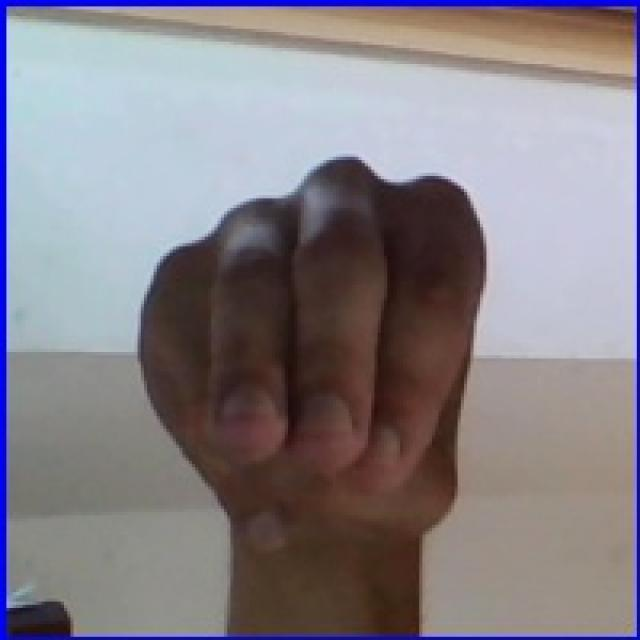Letra M: (103, 136, 507, 596)
